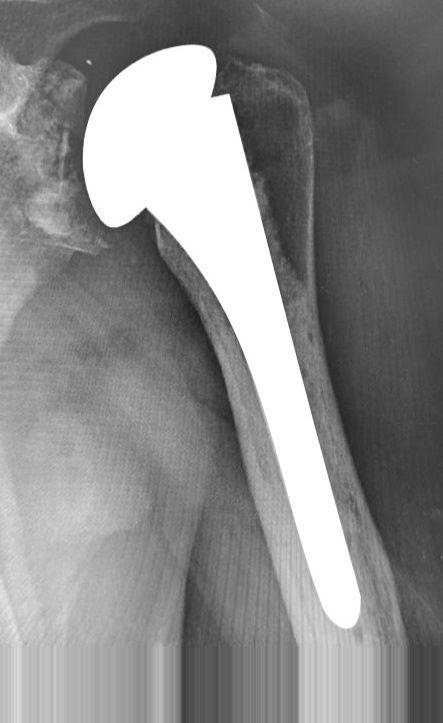Shoulder - Anotomyhead - Stryker: (78, 34, 252, 243)
Shoulder - Anotomytail - Stryker: (121, 84, 306, 337)
